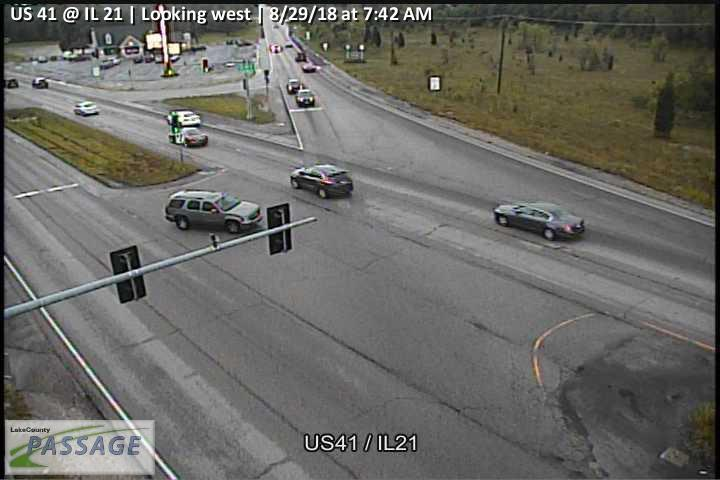SUV: (164, 189, 265, 235), (289, 163, 356, 200), (73, 99, 100, 116), (31, 76, 49, 90), (5, 77, 20, 88), (100, 57, 111, 68), (154, 53, 165, 63)
Sedan: (492, 201, 586, 242), (168, 126, 209, 149), (166, 109, 201, 126), (295, 90, 317, 107), (286, 77, 304, 93), (301, 60, 319, 74), (132, 55, 143, 63), (144, 54, 152, 62)
